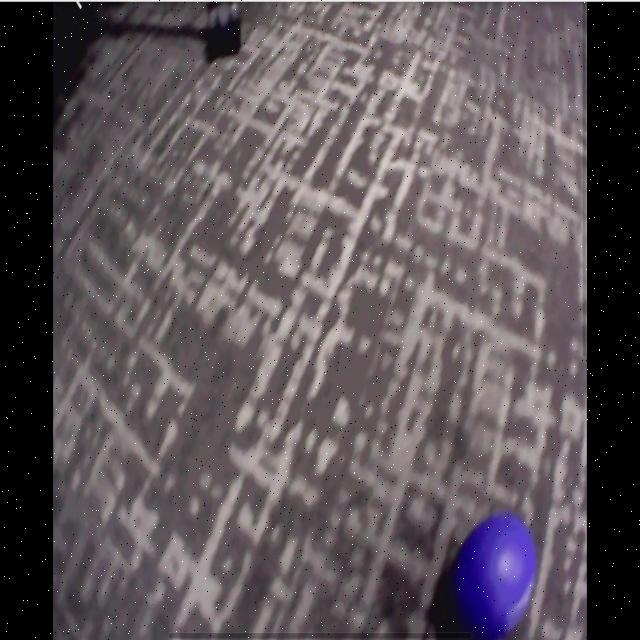ball: (459, 515, 538, 634)
